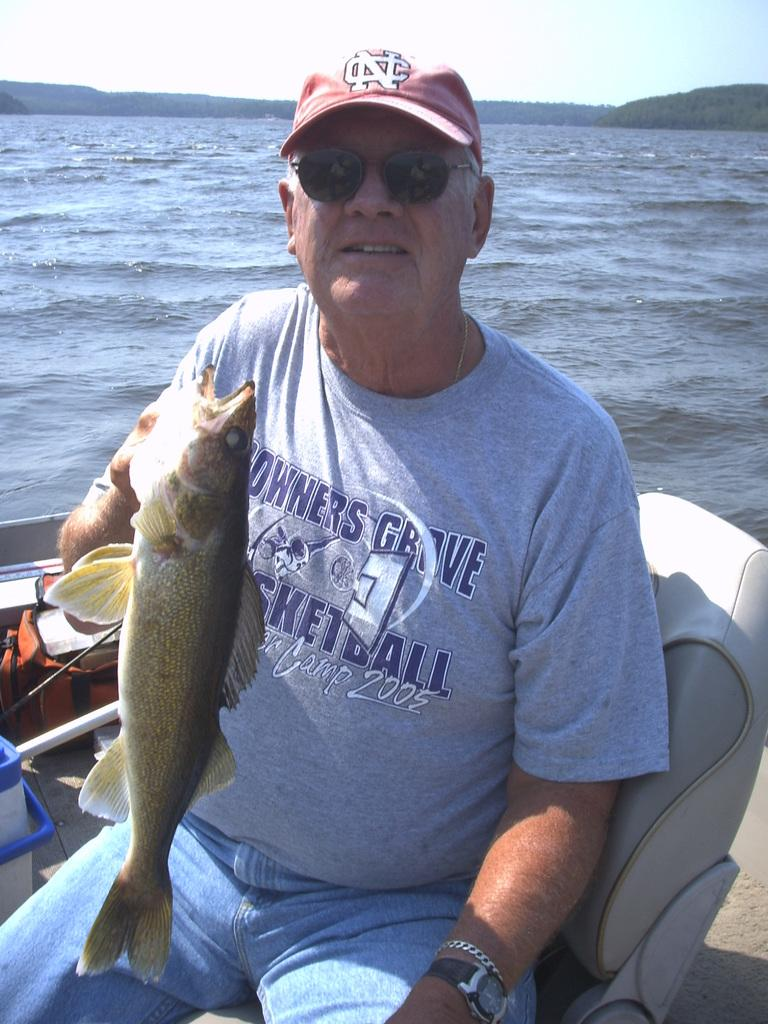Hat: (278, 41, 484, 171)
